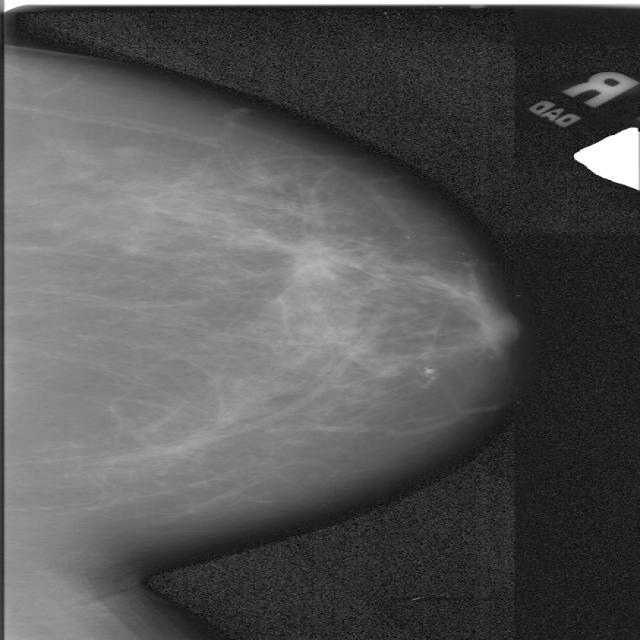tumour: (277, 238, 341, 278)
